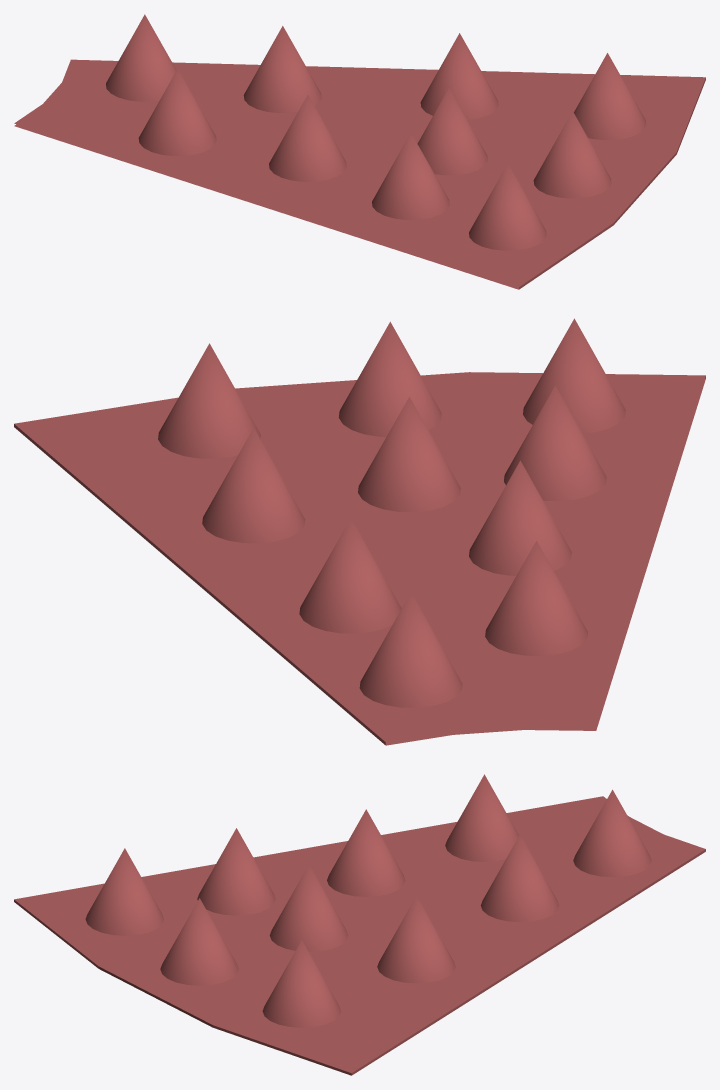
File: Plataforma_Pinchos.fbx
The picture shows the model from 3 angles, top to bottom: view 1: azimuth 30°, elevation 25°; view 2: azimuth 150°, elevation 25°; view 3: azimuth 270°, elevation 25°; orthographic projection. The views are drawn at different scales.
Parts seen in each view (by area): view 1: pCone12; view 2: pCone12; view 3: pCone12.
Part boxes in pixels (<box>): pCone12: <box>14,14,705,289</box>; pCone12: <box>14,318,705,745</box>; pCone12: <box>14,774,705,1075</box>.
Size of the model in its own units: 141 by 18.02 by 149.
